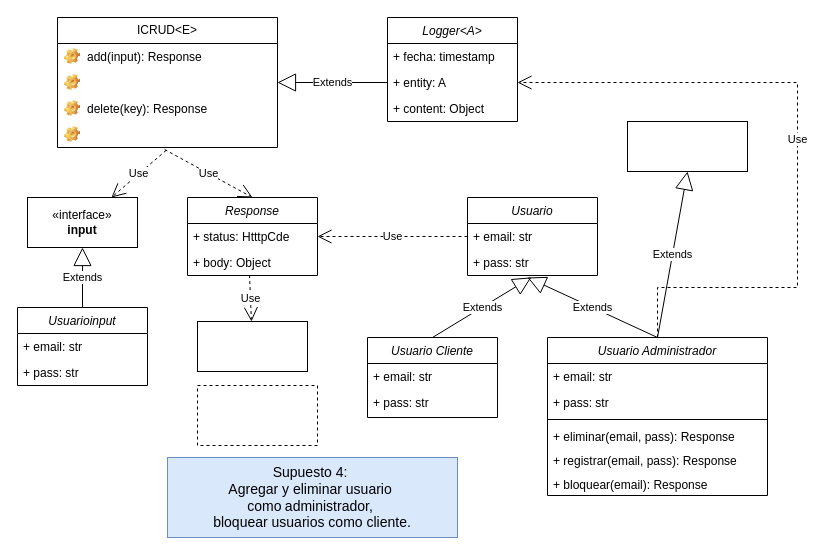
Some shapes in this 829 by 555 pixel diagram are drawn without their labels. The shapes that lost their labels are listed below. From the top down, each one's centre as x and y in pixels, then its label:
At pixel 167 82: "update(key, input): Response".
At pixel 167 134: "query(key): Response".
At pixel 687 146: "«interface» ICRUD".
At pixel 252 346: "HttpCode".
At pixel 257 415: "200: OK 400: Not Allowed 423 Locked 404: Not Found".
